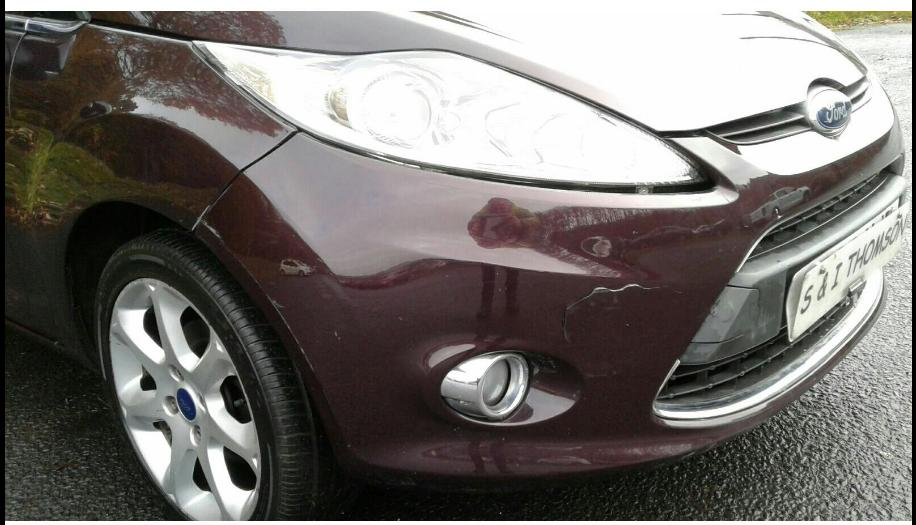Fender: (0, 12, 297, 353)
Front-bumper: (195, 70, 908, 479)
Front-wheel: (92, 227, 317, 521)
Grille: (663, 288, 861, 406), (748, 165, 893, 258), (716, 110, 812, 143), (850, 80, 868, 110)
Headlight: (193, 40, 714, 191)
Hood: (149, 8, 868, 132)
License-plate: (792, 203, 909, 338)
